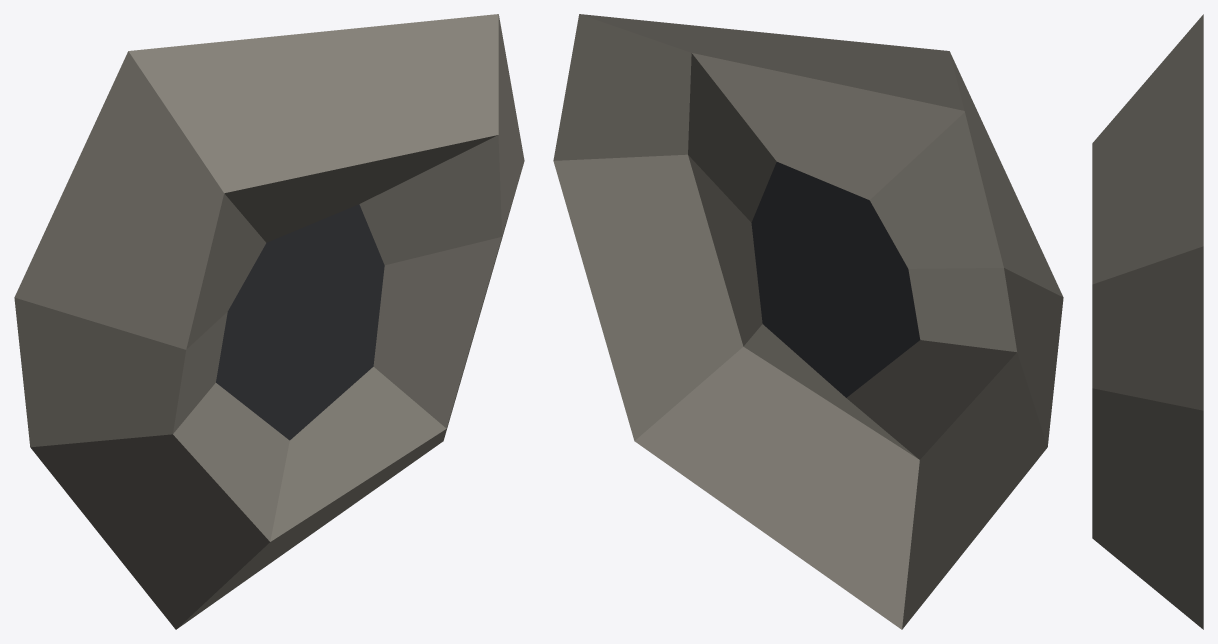
Rendered from SM_Bullet_Hole_B.fbx.
The picture shows the model from 3 angles, left to right: view 1: azimuth 30°, elevation 25°; view 2: azimuth 150°, elevation 25°; view 3: azimuth 270°, elevation 25°; orthographic projection.
Parts seen in each view (by area): view 1: SM_Bullet_Hole_B; view 2: SM_Bullet_Hole_B; view 3: SM_Bullet_Hole_B.
Boxes of the visible parts, bbox=[...] form: SM_Bullet_Hole_B: bbox=[14, 14, 524, 629]; SM_Bullet_Hole_B: bbox=[553, 14, 1063, 629]; SM_Bullet_Hole_B: bbox=[1092, 14, 1203, 629].
Size of the model in its own units: 25.33 by 28.01 by 4.82.
